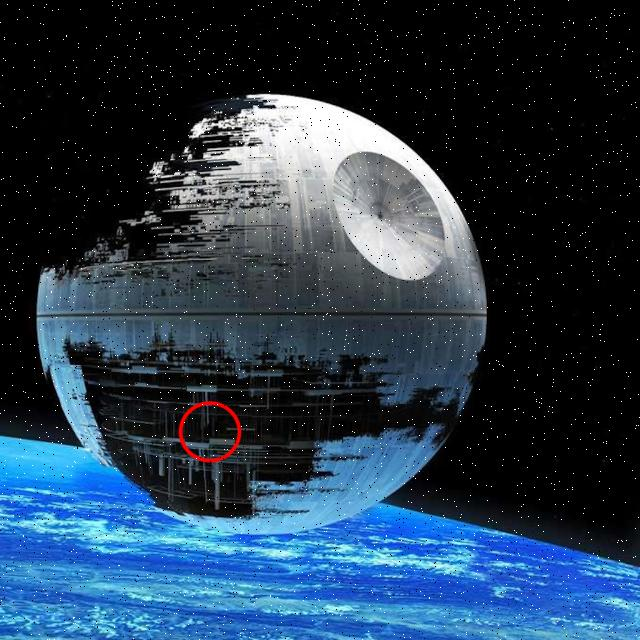Death-star: (34, 94, 488, 536)
